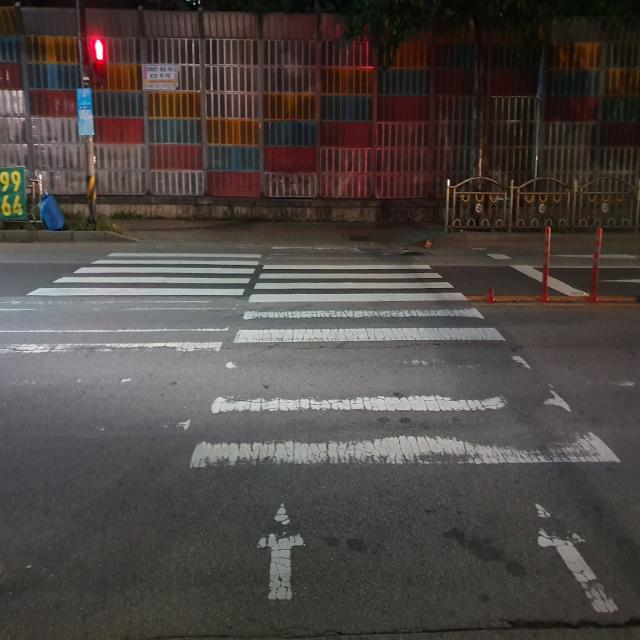빨간불: (93, 37, 107, 85)
횡단보도: (0, 243, 624, 618)
